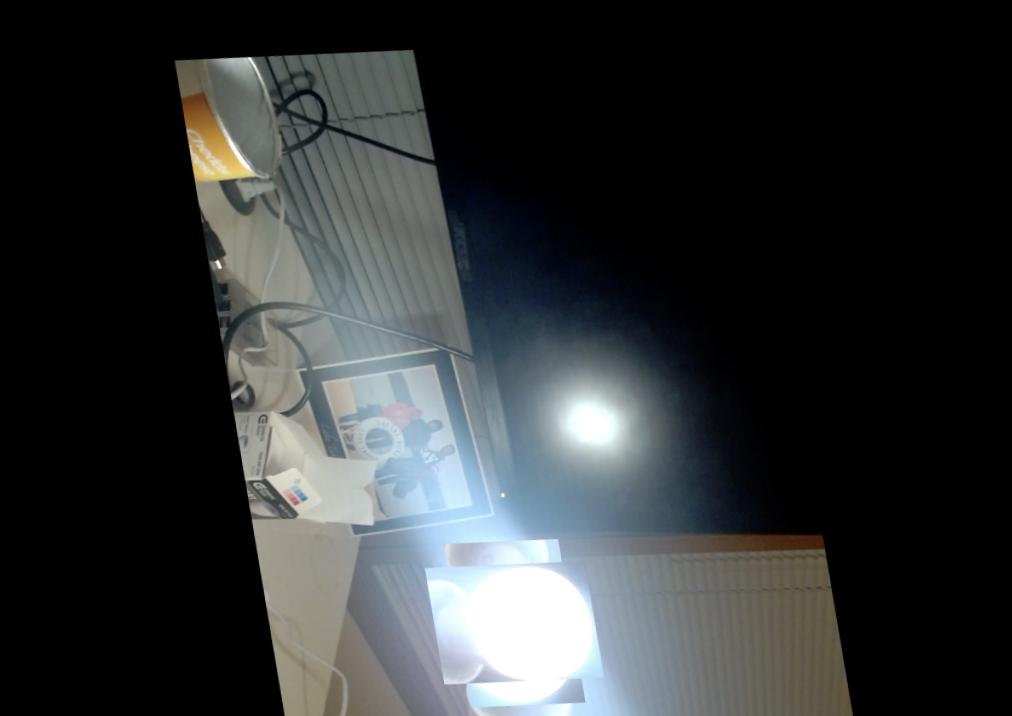TubeLight: (430, 527, 591, 696)
